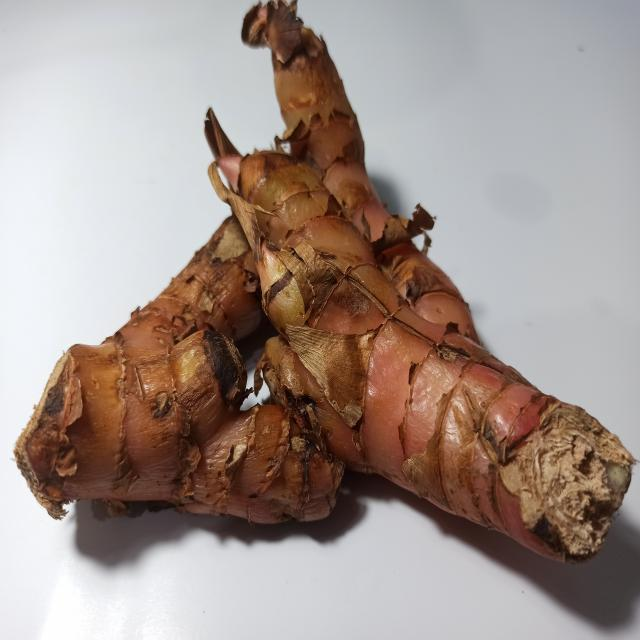ginger: (14, 58, 580, 536)
